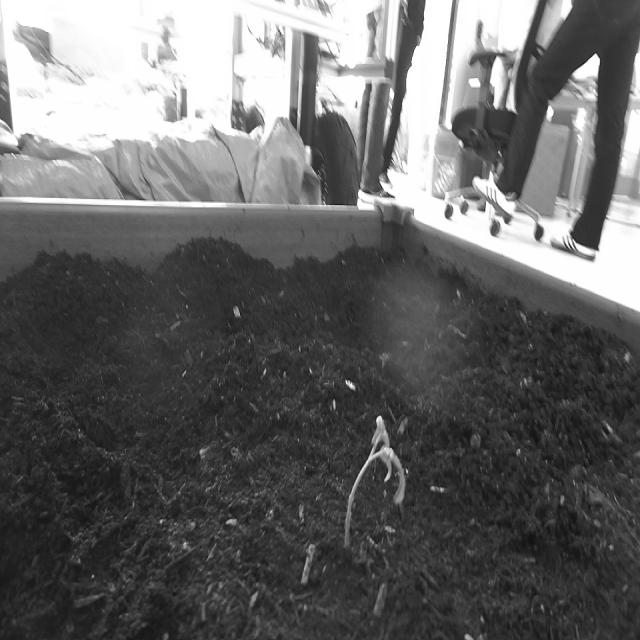Healthy: (342, 409, 408, 552)
